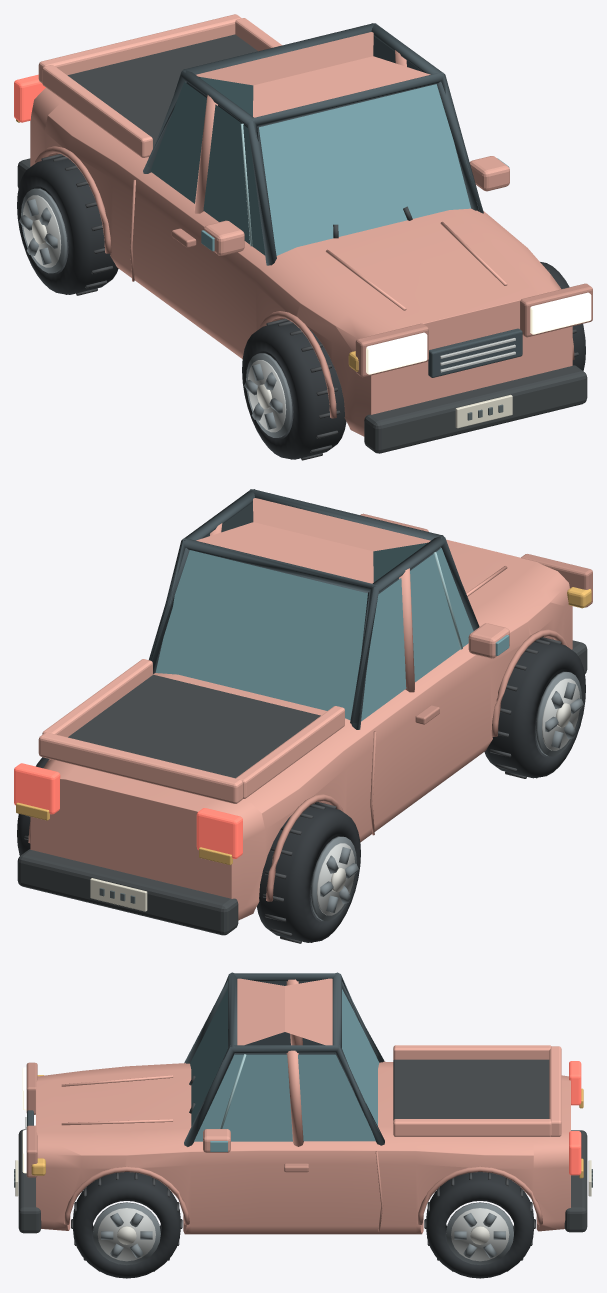
Rendered from car_01.fbx.
The picture shows the model from 3 angles, top to bottom: view 1: azimuth 30°, elevation 25°; view 2: azimuth 150°, elevation 25°; view 3: azimuth 270°, elevation 25°; orthographic projection. The views are drawn at different scales.
Parts seen in each view (by area): view 1: Body_SculptedShell, FrontWindscreen, Roof_CrownedPanel, FrontBumper, Tyre_FL, UteBedInlay, Tyre_RL, SideWindow_L_0, SideWindow_L_1, UteTailgateLip, WindowOutline_L, UteBedSideRail_L (+26 smaller); view 2: Body_SculptedShell, RearWindow, UteBedInlay, Roof_CrownedPanel, RearBumper, Tyre_RL, Tyre_FL, UteTailgateLip, SideWindow_L_0, SideWindow_L_1, UteBedSideRail_L, WindowOutline_L (+21 smaller); view 3: Body_SculptedShell, UteBedInlay, SideWindow_R_0, Tyre_FR, Tyre_RR, Roof_CrownedPanel, SideWindow_R_1, UteBedSideRail_R, WindowOutline_R, RearWindow, FrontWindscreen, UteBedSideRail_L (+21 smaller).
Part boxes in pixels (x1,y1,x2,y2): Body_SculptedShell: (30, 88, 572, 436); FrontWindscreen: (259, 84, 470, 255); Roof_CrownedPanel: (196, 32, 430, 117); FrontBumper: (364, 365, 587, 453); Tyre_FL: (242, 320, 346, 459); UteBedInlay: (67, 34, 257, 147); Tyre_RL: (17, 155, 118, 294); SideWindow_L_0: (203, 104, 265, 255); SideWindow_L_1: (150, 82, 206, 203); UteTailgateLip: (38, 14, 241, 82); WindowOutline_L: (144, 69, 276, 262); UteBedSideRail_L: (42, 65, 152, 157); Body_SculptedShell: (30, 539, 572, 920); RearWindow: (155, 550, 367, 720); UteBedInlay: (68, 674, 320, 778); Roof_CrownedPanel: (196, 498, 430, 583); RearBumper: (17, 849, 238, 935); Tyre_RL: (257, 803, 360, 942); Tyre_FL: (484, 639, 585, 778); UteTailgateLip: (38, 732, 242, 803); SideWindow_L_0: (410, 548, 473, 682); SideWindow_L_1: (361, 578, 406, 721); UteBedSideRail_L: (236, 706, 344, 798); WindowOutline_L: (350, 535, 479, 724); Body_SculptedShell: (36, 1061, 570, 1234); UteBedInlay: (393, 1059, 549, 1120); SideWindow_R_0: (194, 1054, 292, 1141); Tyre_FR: (73, 1172, 180, 1278); Tyre_RR: (426, 1172, 533, 1278); Roof_CrownedPanel: (237, 978, 332, 1045); SideWindow_R_1: (298, 1054, 375, 1141); UteBedSideRail_R: (393, 1119, 551, 1136); WindowOutline_R: (184, 1045, 384, 1146); RearWindow: (342, 989, 379, 1125); FrontWindscreen: (190, 989, 227, 1126); UteBedSideRail_L: (393, 1045, 551, 1059).
Size of the model in its own units: 261 by 227 by 543.
